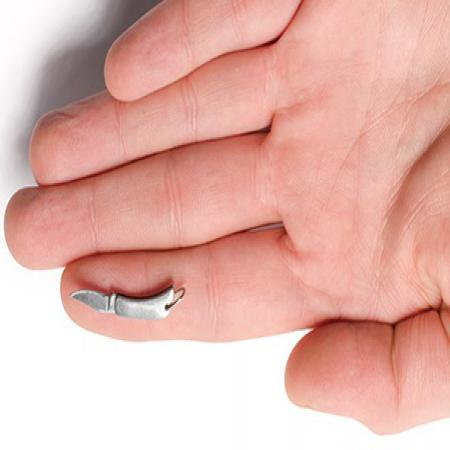long weapon: (59, 284, 138, 328)
